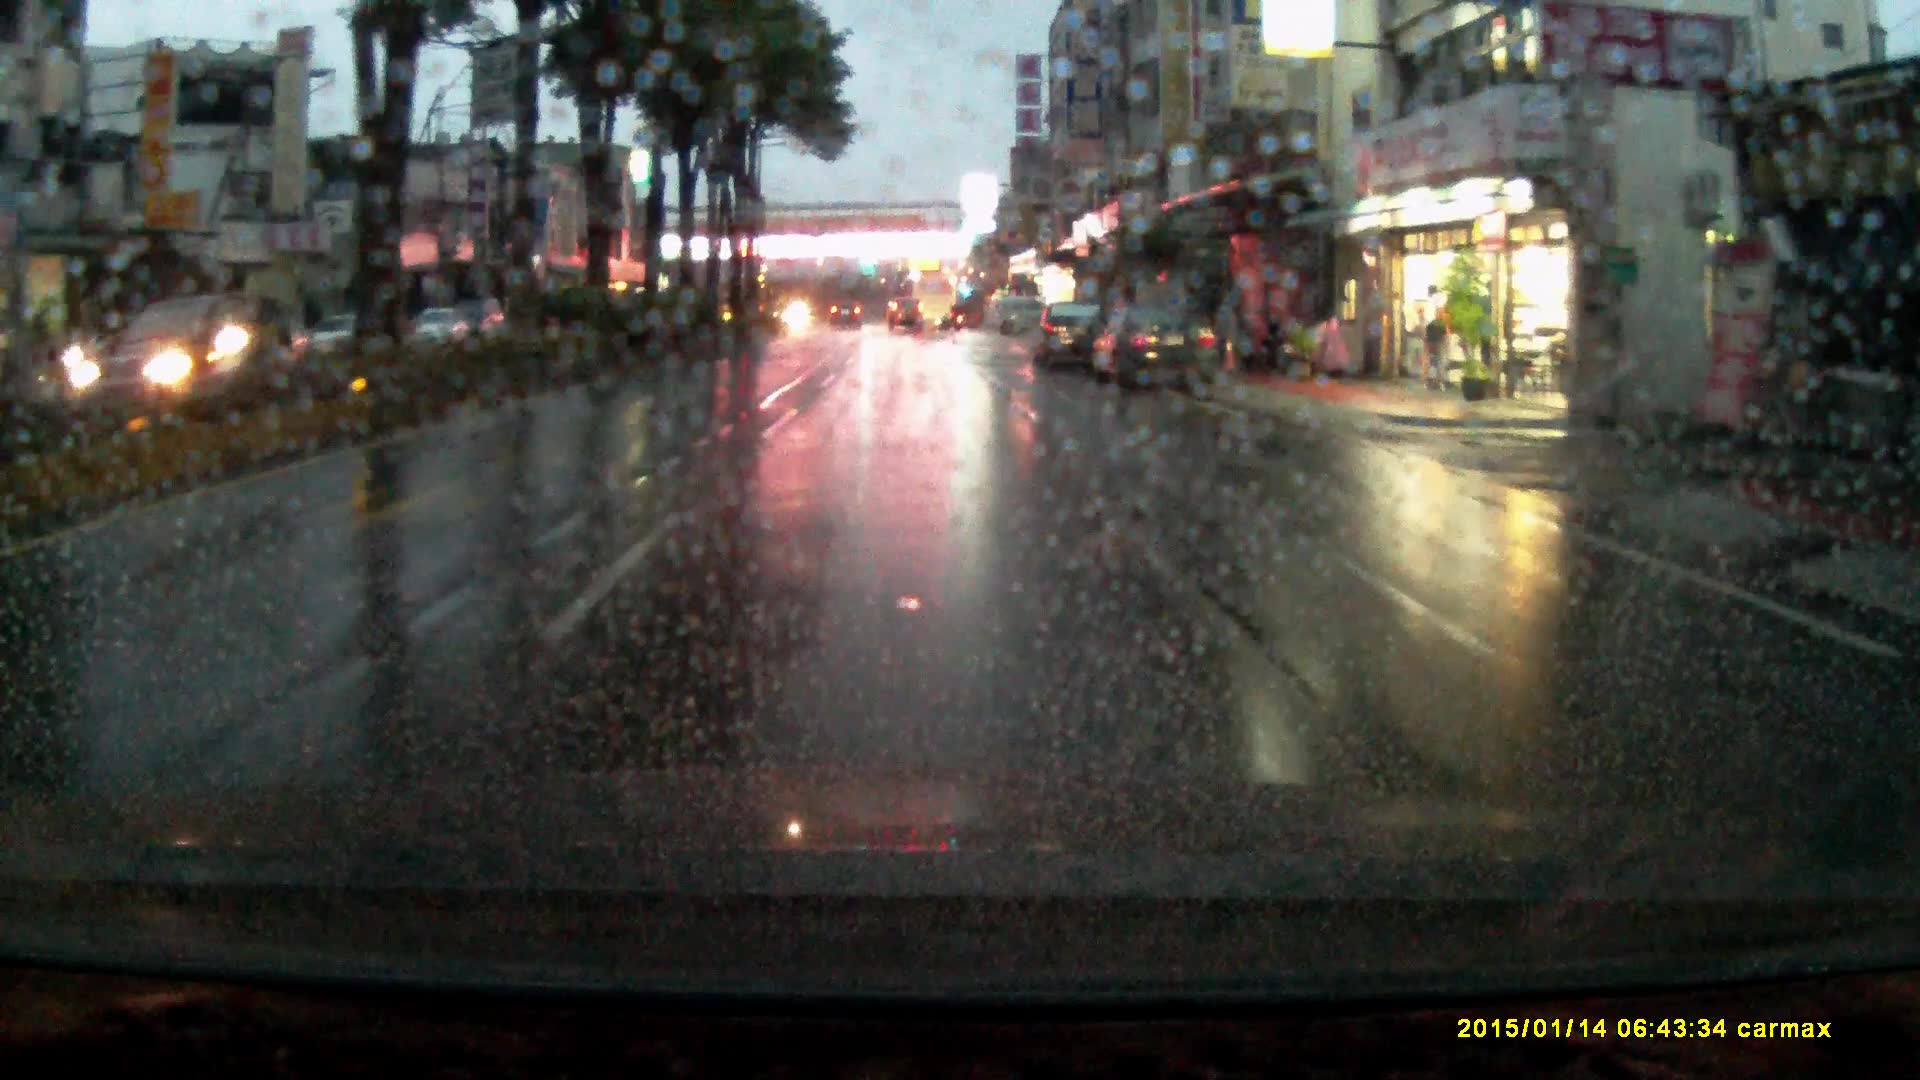rider: (205, 271, 299, 427)
vehicle: (62, 289, 256, 410), (1088, 299, 1222, 392), (1027, 297, 1111, 372), (303, 310, 374, 358), (903, 276, 956, 330), (991, 295, 1048, 336), (418, 304, 469, 340), (889, 294, 926, 331), (831, 297, 867, 327)
